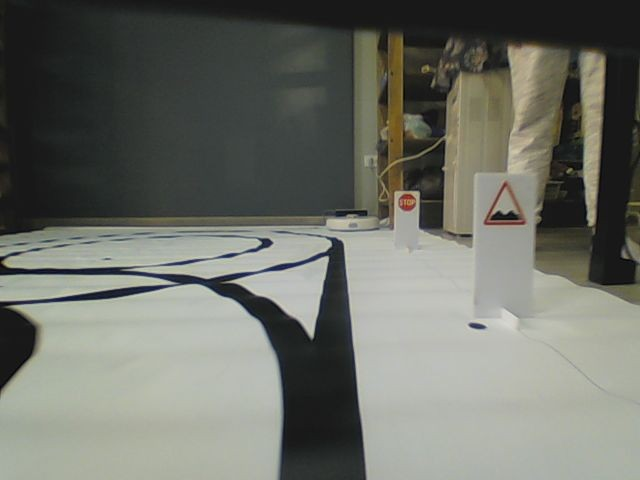Nerov: (481, 180, 528, 228)
Stop: (397, 192, 417, 213)
